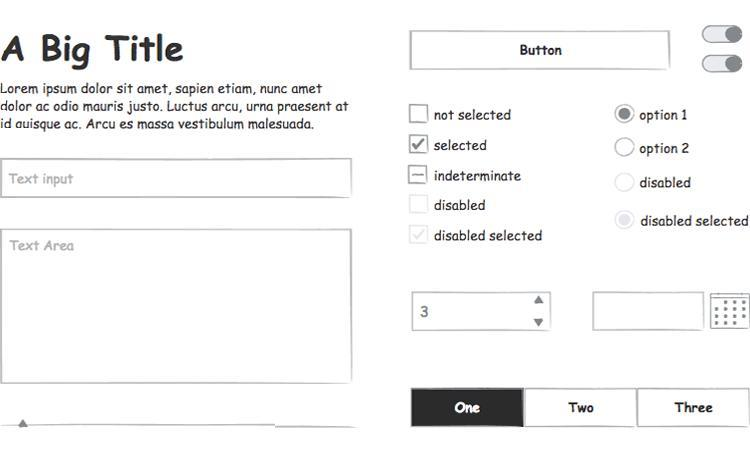button: (410, 31, 671, 72), (525, 390, 637, 428), (414, 389, 524, 427), (639, 389, 750, 426)
checkbox: (410, 136, 429, 155), (410, 193, 428, 213), (408, 167, 429, 184), (411, 224, 429, 242), (411, 105, 428, 124)
dropdown: (415, 294, 550, 332)
icon: (712, 295, 750, 330)
input: (3, 230, 353, 383), (2, 161, 354, 200), (595, 294, 703, 333)
label: (639, 212, 750, 232), (435, 228, 548, 246), (433, 168, 525, 187), (431, 108, 516, 127), (639, 139, 694, 160), (434, 136, 494, 155), (638, 108, 690, 127), (434, 199, 495, 214), (641, 177, 697, 193)
radio: (614, 206, 638, 234), (614, 138, 637, 160), (615, 104, 636, 126), (615, 173, 636, 194)
switch: (704, 54, 743, 74), (703, 27, 743, 45)
